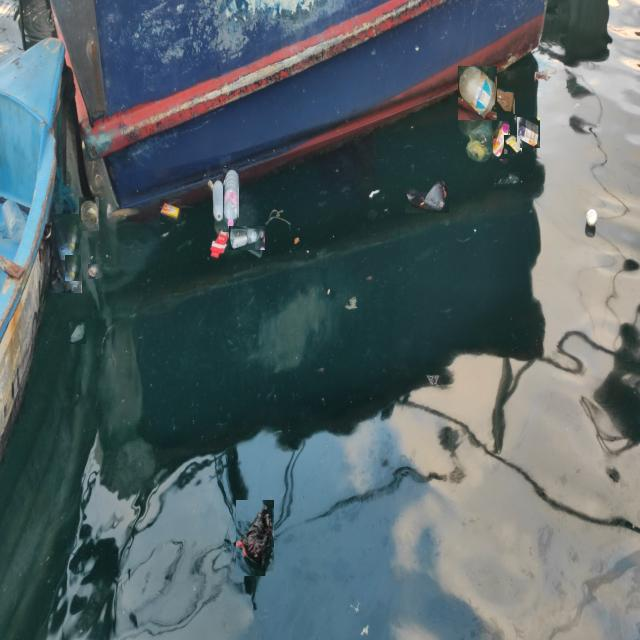Juice box: (517, 117, 540, 148), (160, 199, 181, 224)
Plastic: (69, 322, 86, 344)
Plastic bag: (236, 501, 274, 576), (406, 173, 450, 213), (466, 123, 494, 167), (492, 172, 520, 190), (534, 67, 558, 85)
Plastic bottle: (52, 214, 82, 293), (458, 66, 497, 120), (223, 167, 239, 232), (229, 226, 265, 250), (210, 179, 226, 225), (492, 122, 510, 160), (80, 197, 100, 231), (65, 255, 81, 281), (585, 207, 598, 228)
Plastic cup: (88, 264, 98, 279)
Plastic packaging: (210, 228, 229, 260), (494, 88, 515, 114), (504, 135, 522, 154)
